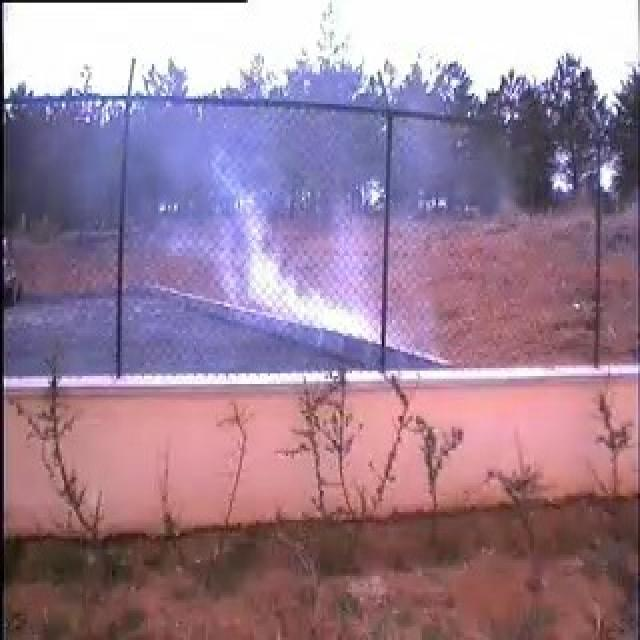smoke: (191, 144, 386, 335)
